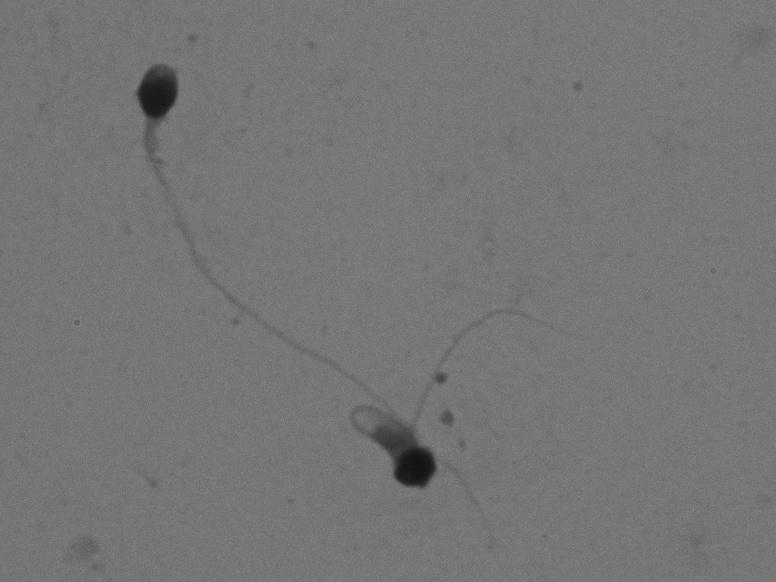Abnormal: (108, 49, 401, 409), (312, 295, 606, 504)
